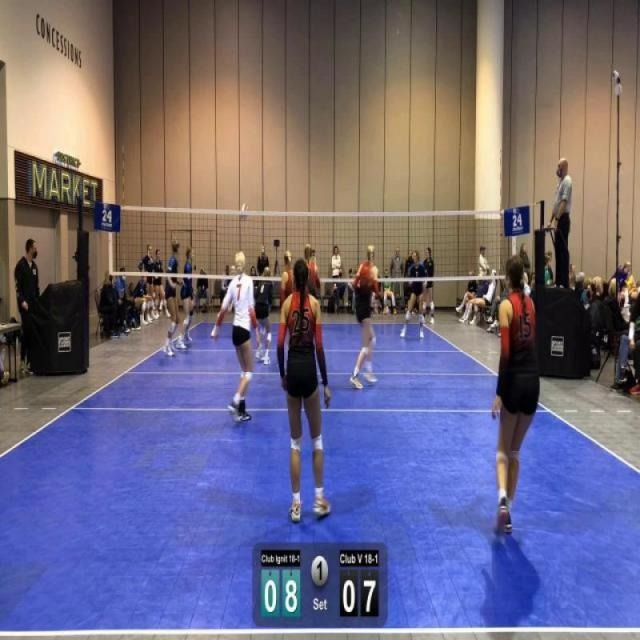volleyball: (239, 202, 250, 222)
